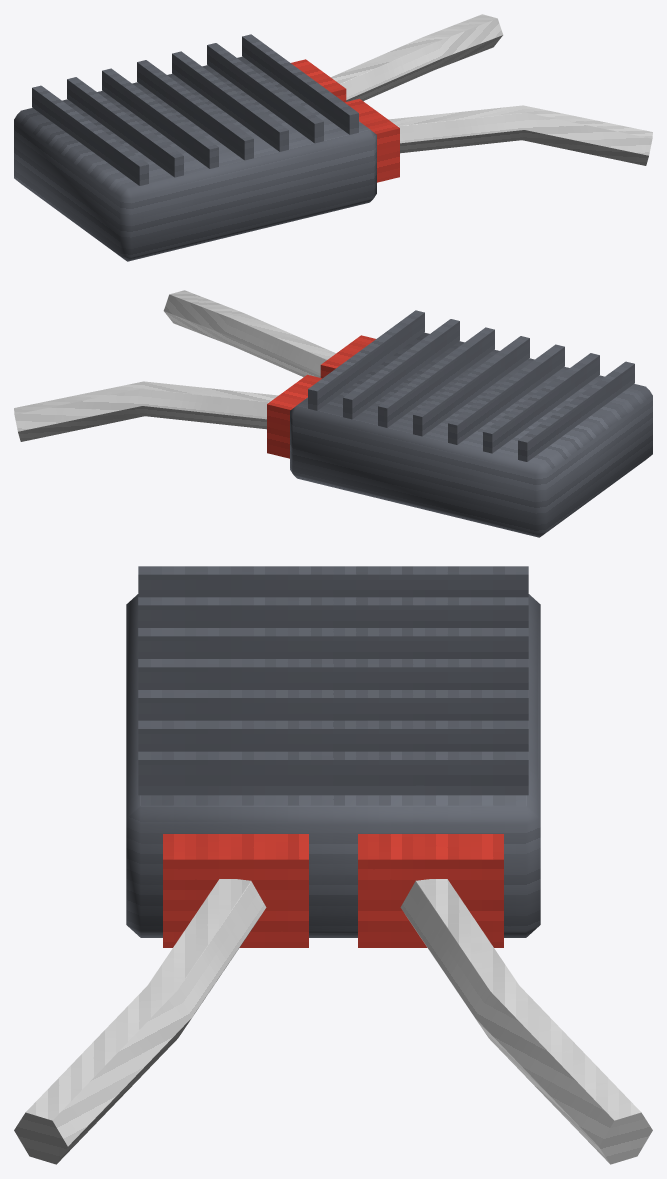
Rendered from ecu_n4.glb.
The picture shows the model from 3 angles, top to bottom: view 1: azimuth 30°, elevation 25°; view 2: azimuth 150°, elevation 25°; view 3: azimuth 270°, elevation 25°; orthographic projection. The views are drawn at different scales.
Visible parts, largest first — view 1: ecu_n4; view 2: ecu_n4; view 3: ecu_n4.
Part boxes in pixels (bbox=[...]): ecu_n4: bbox=[14, 14, 652, 261]; ecu_n4: bbox=[14, 290, 652, 537]; ecu_n4: bbox=[14, 566, 652, 1164].
Bounding box in the file's own units: 0.4368 × 0.0773 × 0.2622.
Materials: 2 (2 with a texture image).
